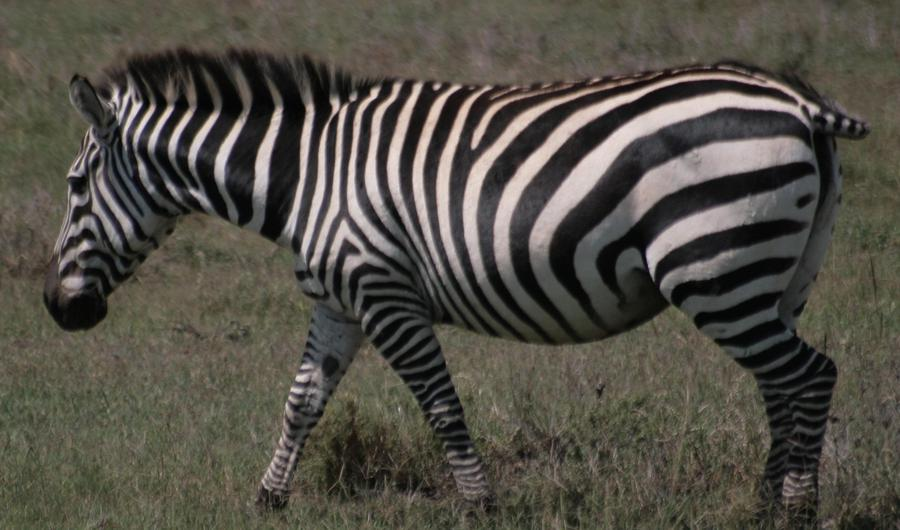zebra_plains: (298, 70, 801, 349)
